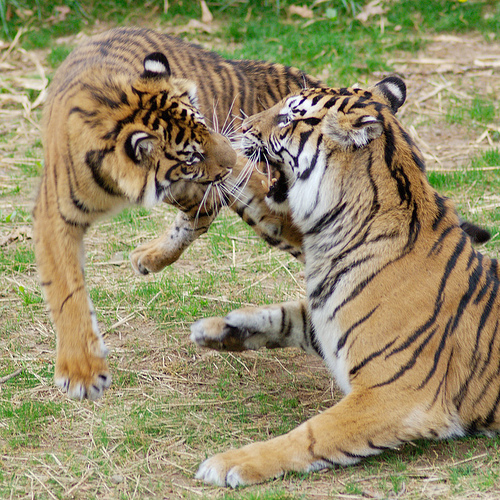Tigre: (241, 93, 500, 407), (20, 29, 241, 307)
